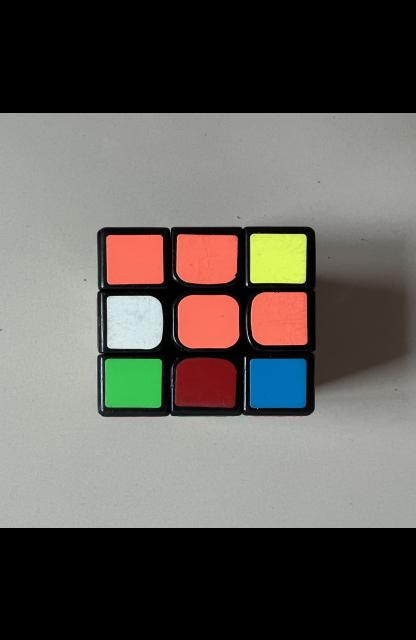Blue: (249, 358, 307, 408)
Green: (104, 358, 162, 408)
Orange: (178, 294, 239, 347), (250, 291, 308, 345), (177, 233, 238, 283), (107, 233, 164, 283)
Red: (174, 357, 237, 407)
White: (107, 295, 163, 348)
Yellow: (250, 232, 307, 282)
